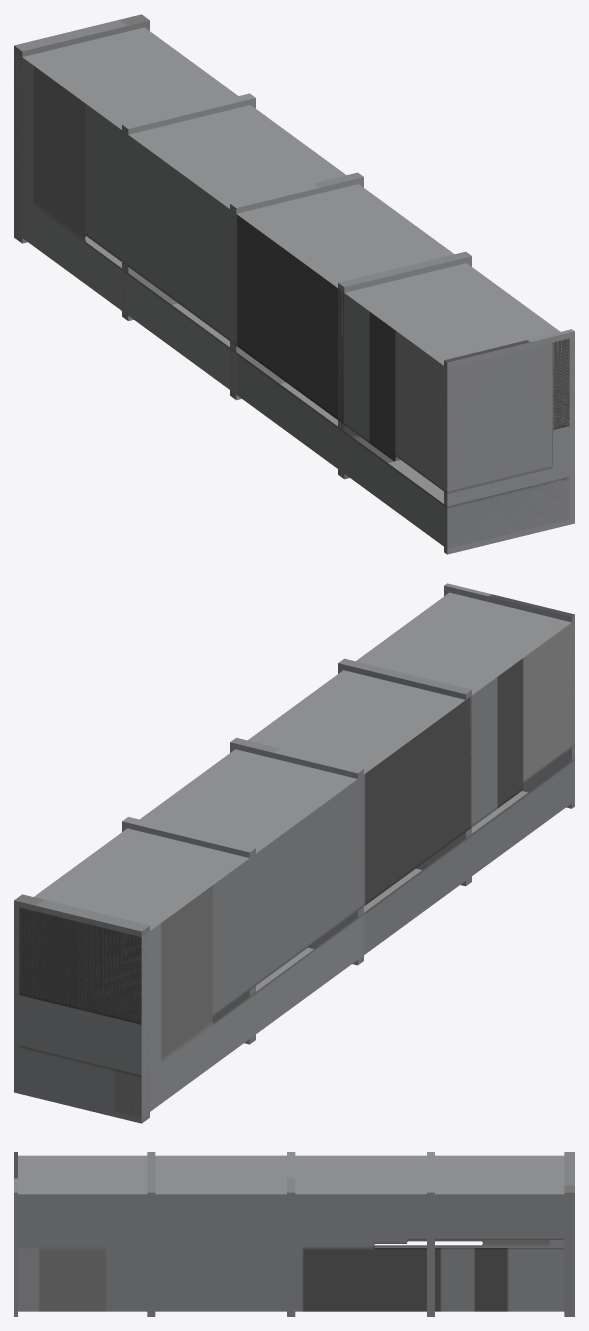
3 renders of one model, top to bottom at view 1: azimuth 30°, elevation 25°; view 2: azimuth 150°, elevation 25°; view 3: azimuth 270°, elevation 25°, orthographic. The views are drawn at different scales.
Size of the model in its own units: 0.355 by 0.51 by 2.09.
